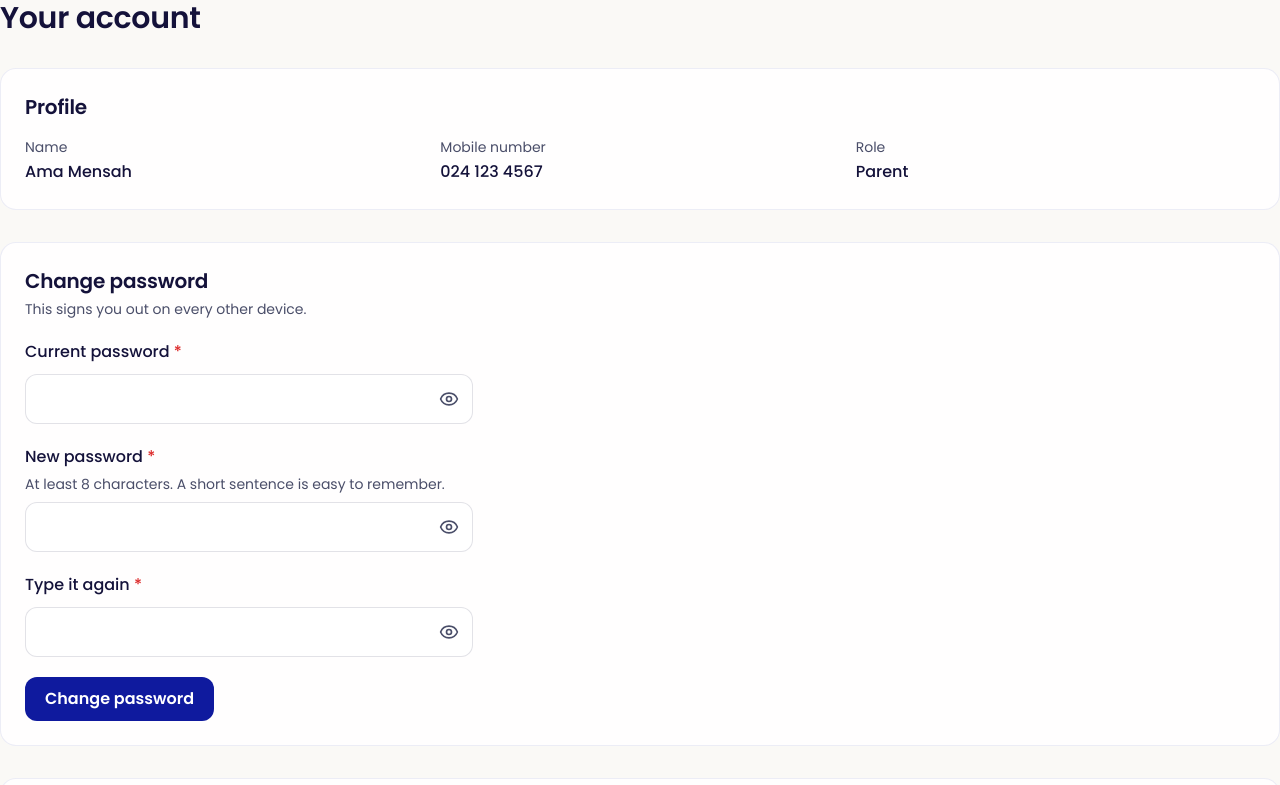
Test case: Account page › checks the new password was typed the same twice
This screenshot has width=1280, height=785.
Expected: the heading "Change password" is shown, [25,267,208,295]
In the password field labelled "Current password *": (249, 399) [25,374,473,424], type "old passphrase here"
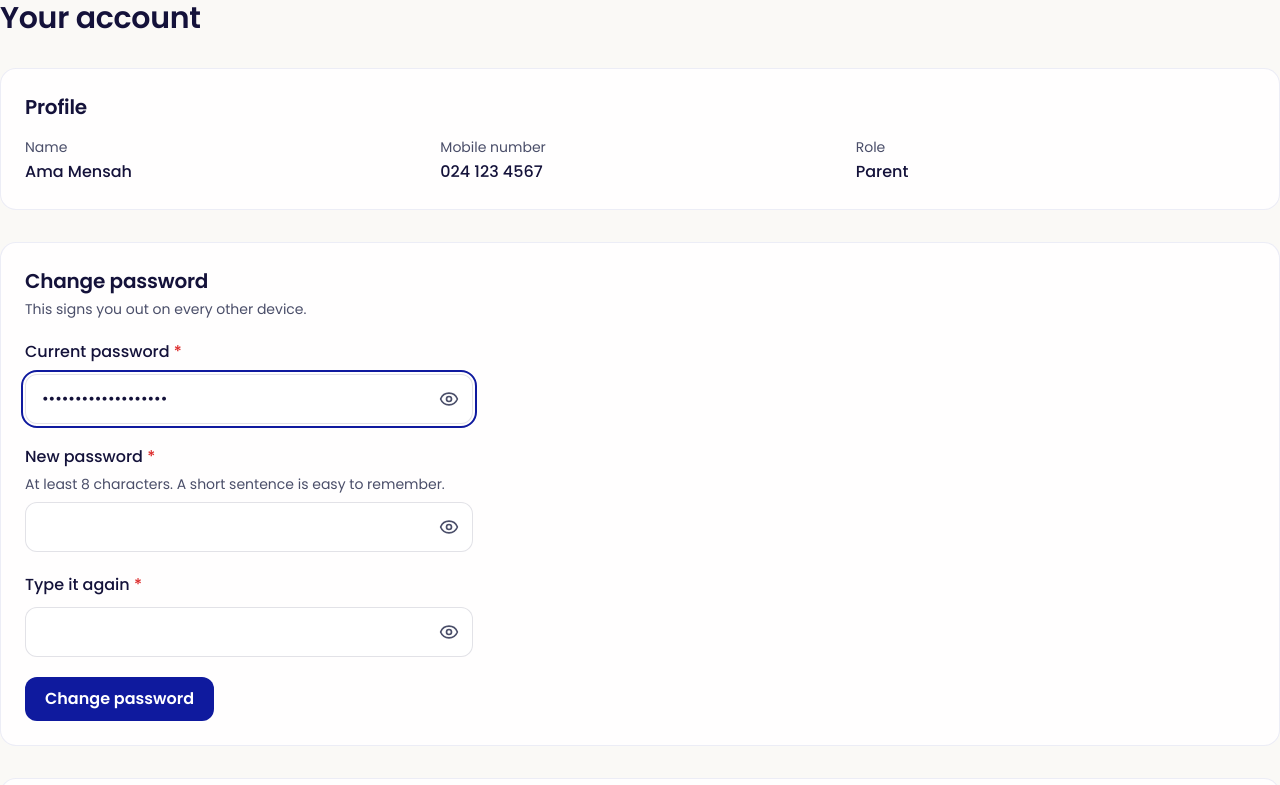
In the password field labelled "New password *": (249, 527) [25,502,473,552], type "a brand new passphrase"
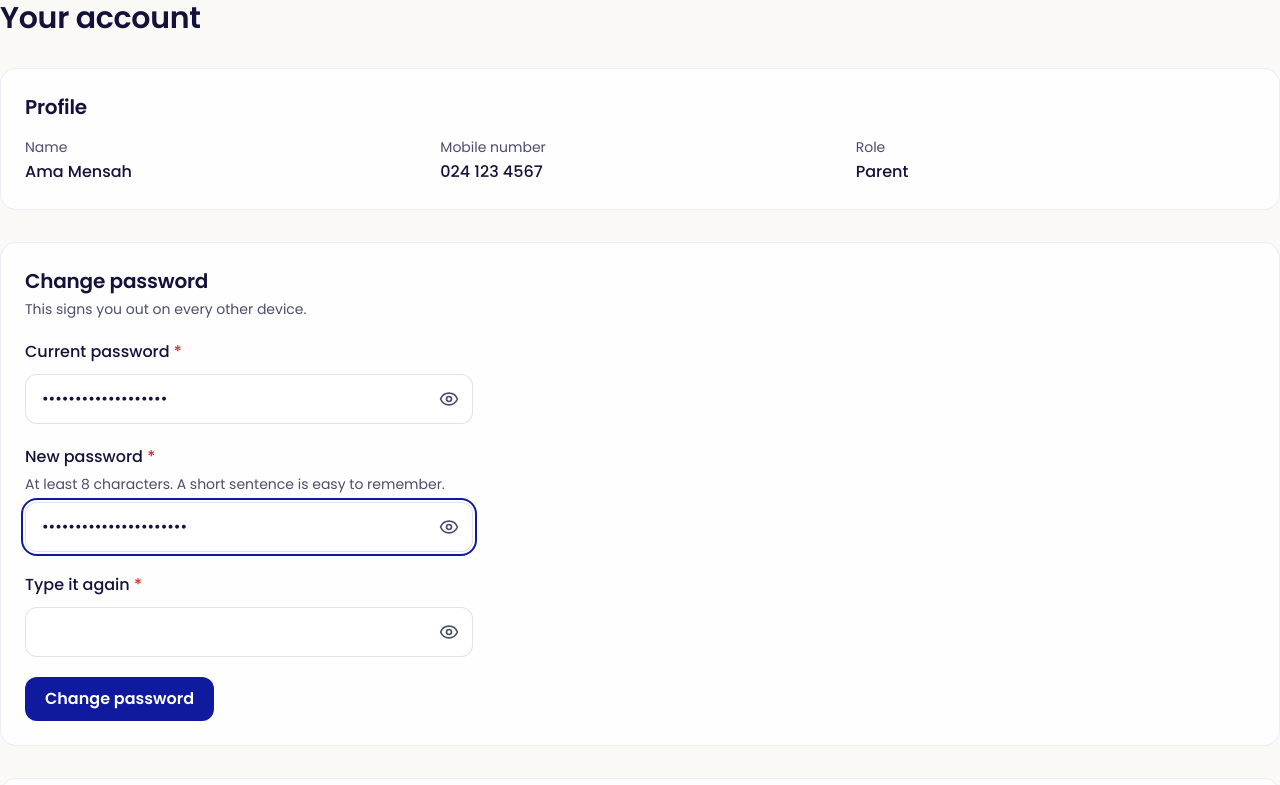
In the password field labelled "Type it again *": (249, 632) [25,607,473,657], type "something else entirely"
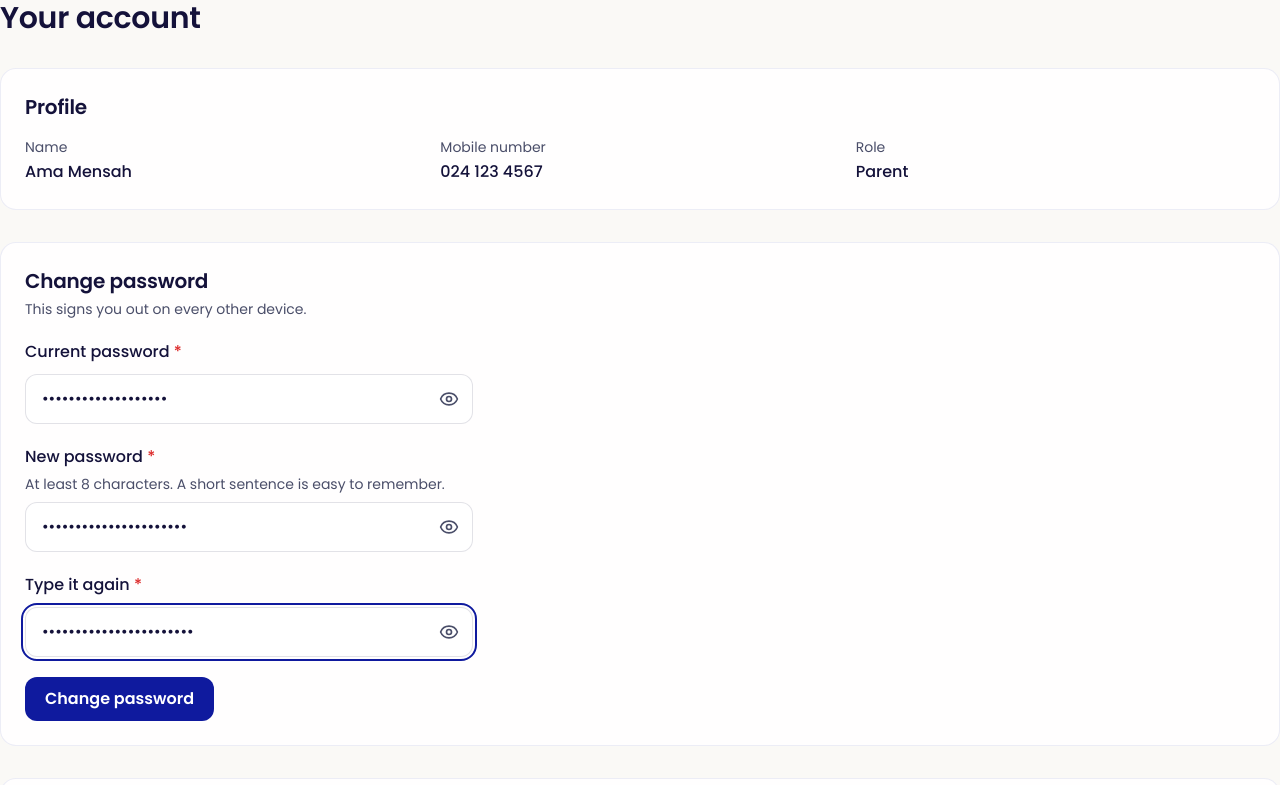
Click the button "Change password": (120, 699) [25,677,214,721]
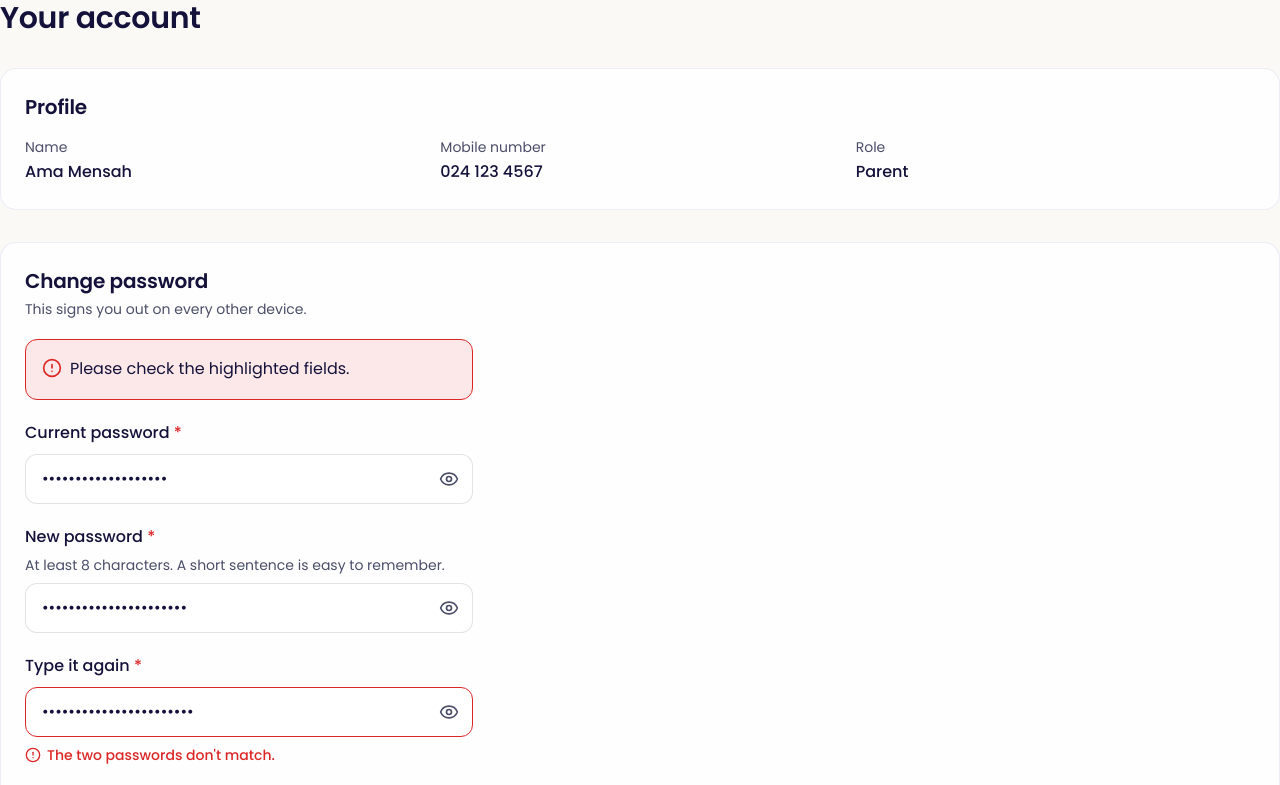
Now the text "The two passwords don't match." is shown, box [25,745,275,765]
